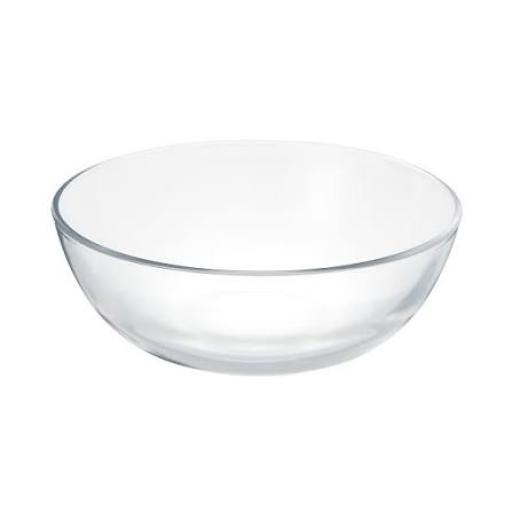Bowl: (52, 141, 460, 373)
